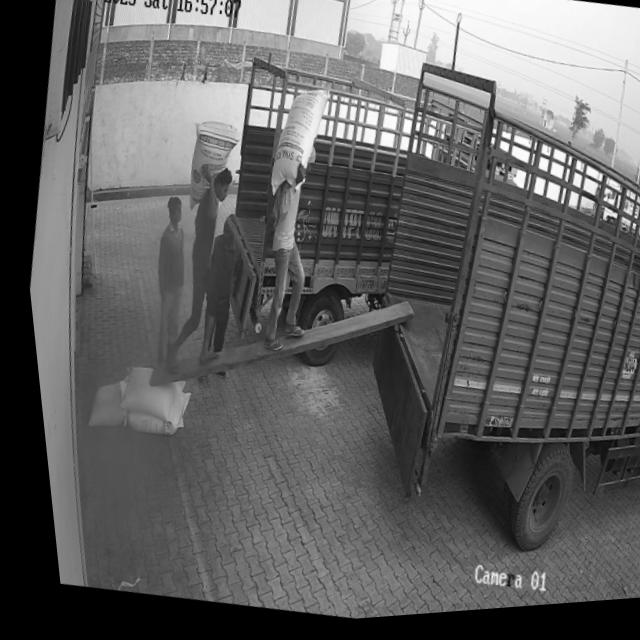sack: (257, 85, 336, 208), (176, 119, 245, 219), (105, 362, 183, 430), (110, 382, 185, 443), (73, 374, 126, 435)
